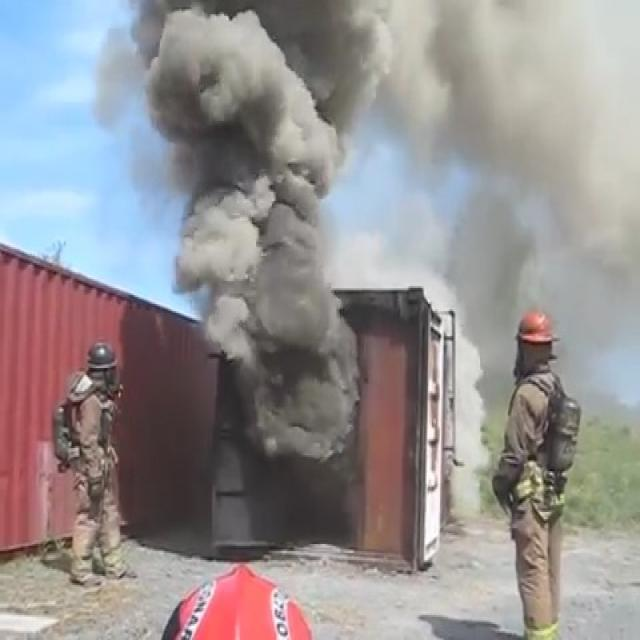Smoke: (154, 13, 377, 530)
